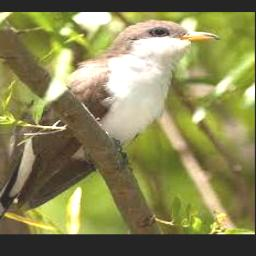Cuckoo: (0, 19, 221, 234)
